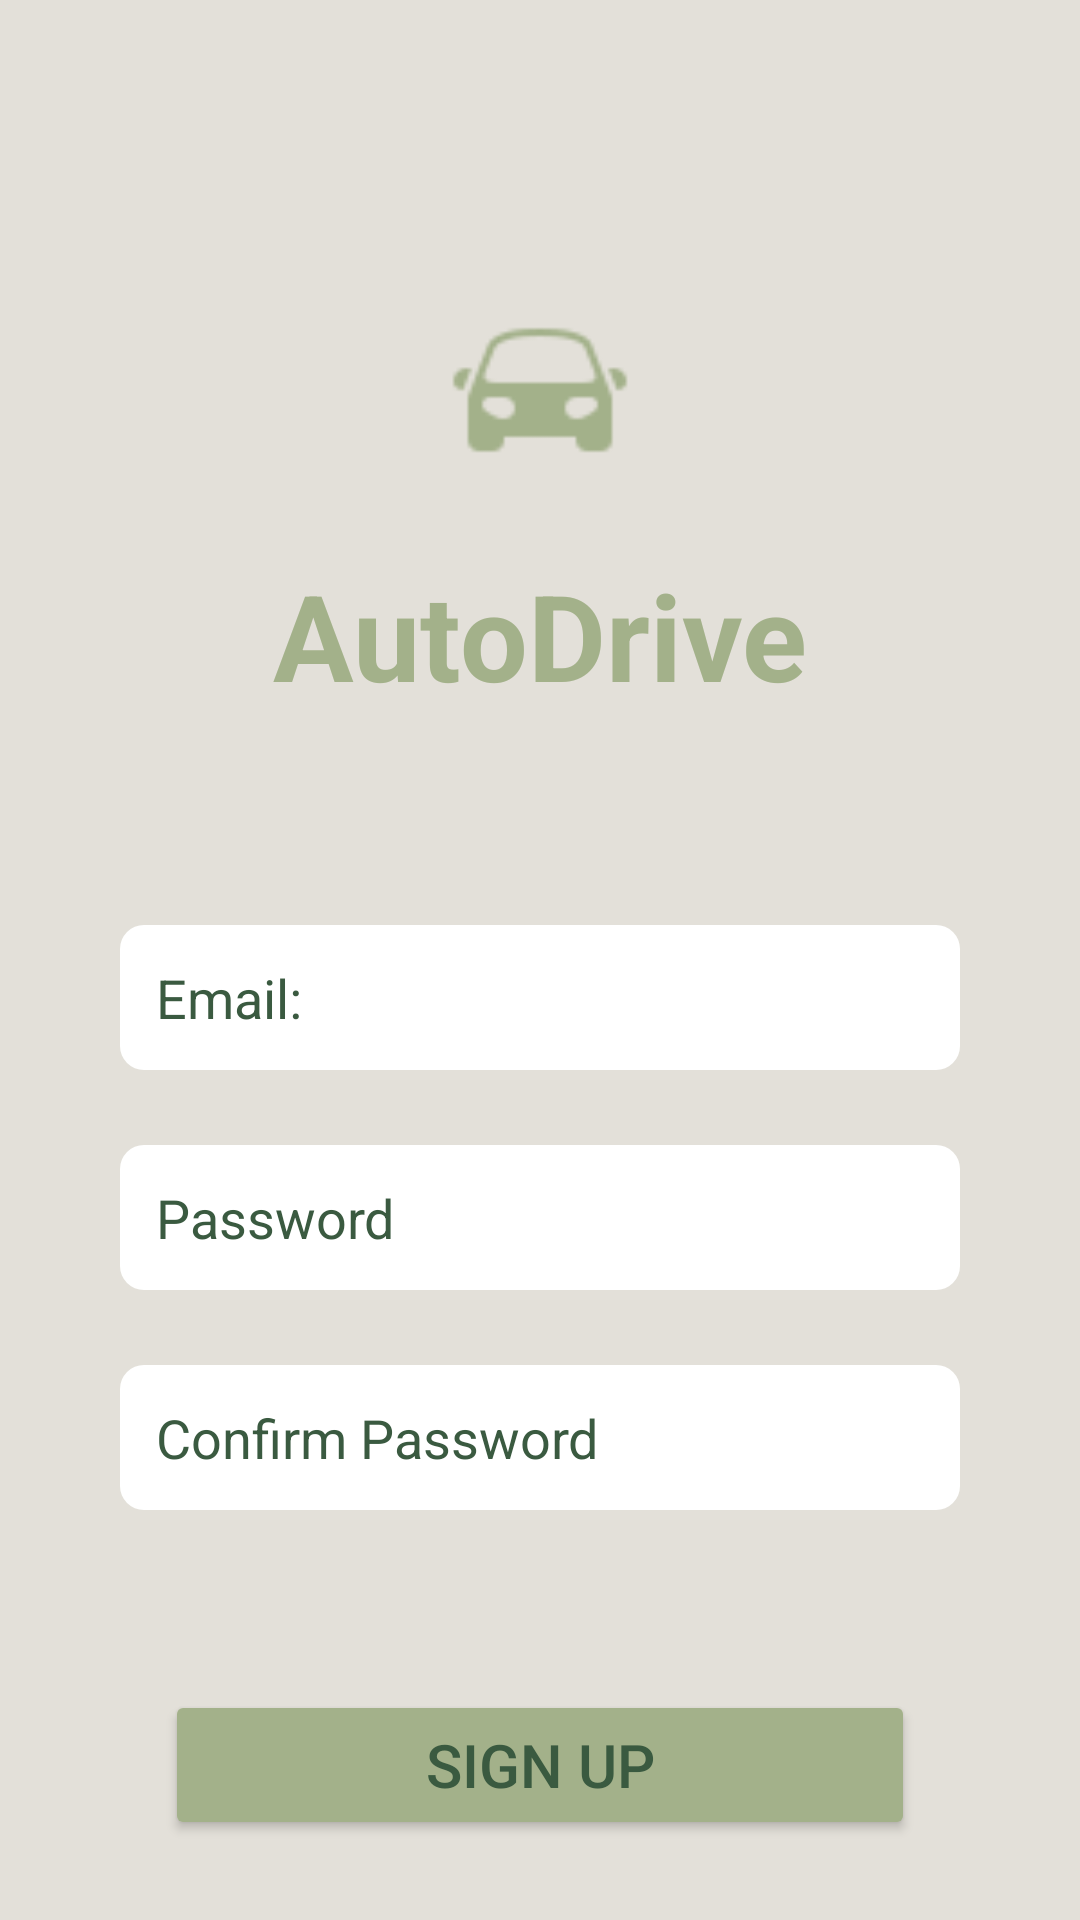

Locate icon controls on the screen. Image size 1080w x 1920h, boxes as (x1, y1, x2, y2).
car: (453, 328, 627, 452)
